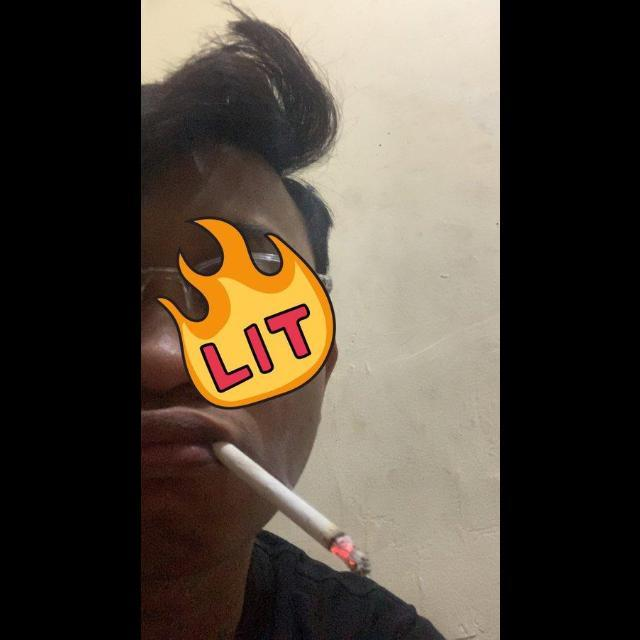rokok: (217, 423, 369, 579)
